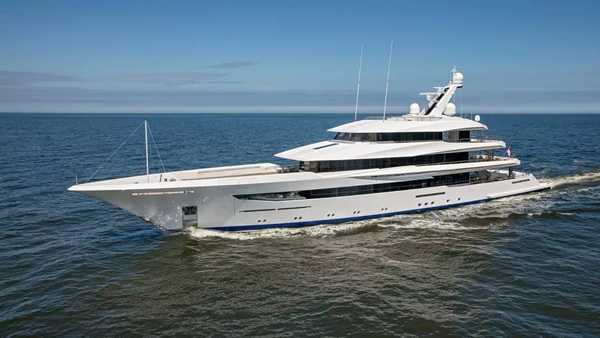yacht: (62, 61, 544, 235)
